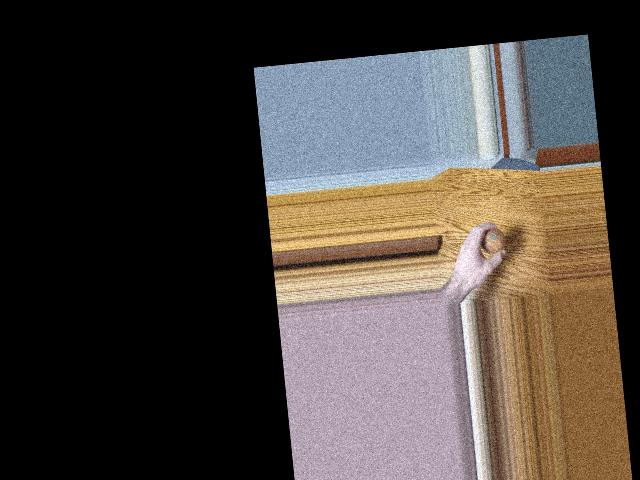onion: (480, 226, 506, 255)
